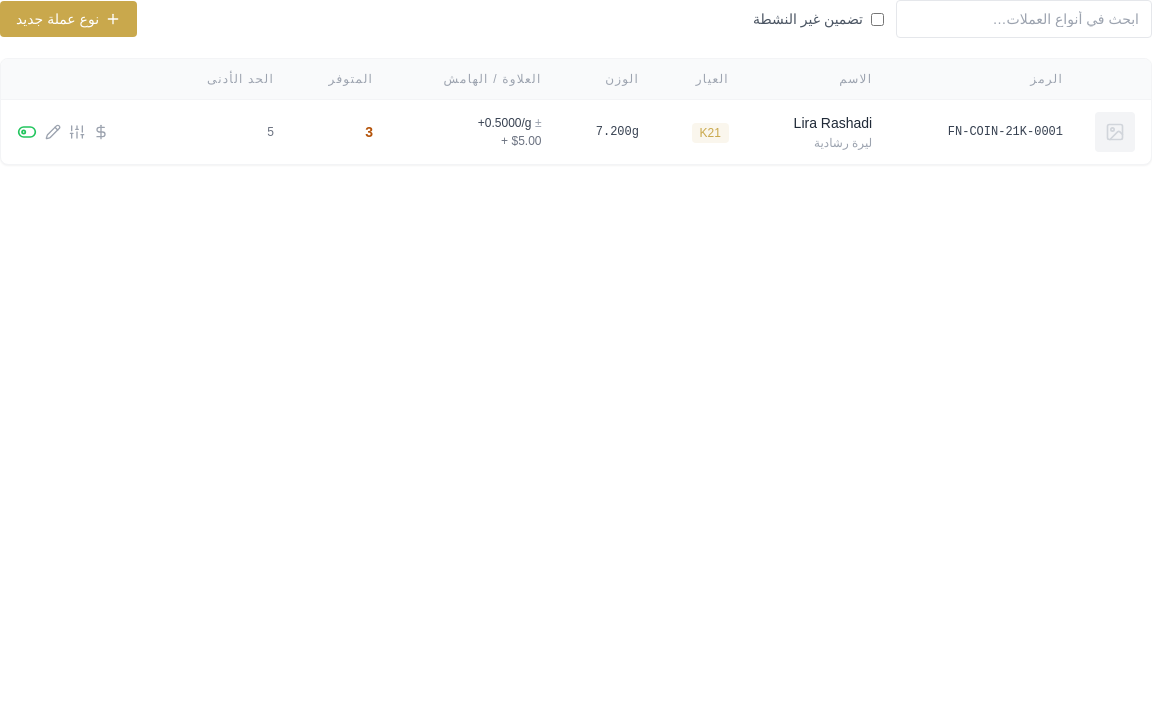
Test case: UnitCatalog in Arabic (NEX-64) › translates an admin override as the rate source
This screenshot has width=1152, height=720.
Click the button named "السعر المباشر: FN-COIN-21K-0001" at point(101, 132), box [93, 124, 109, 140]
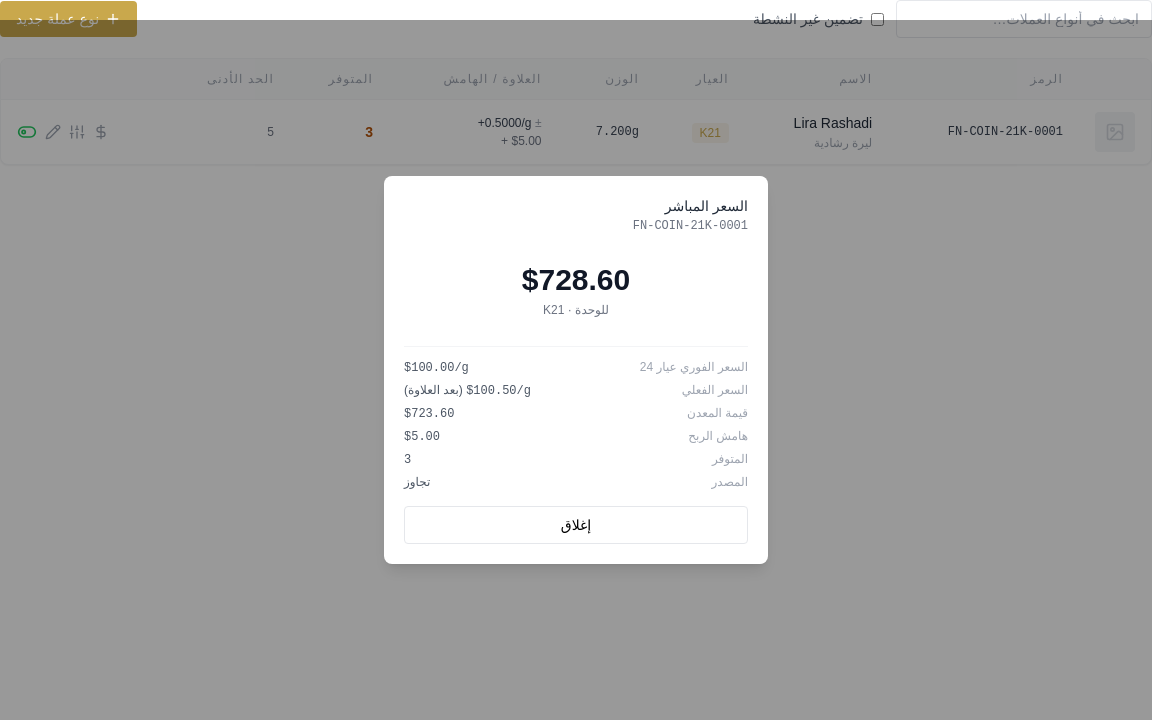
Expected: the element showing "المصدر تجاوز" does not show "(قديم)", [404, 474, 748, 490]
Now the element showing "المصدر تجاوز" is shown, box [404, 474, 748, 490]
